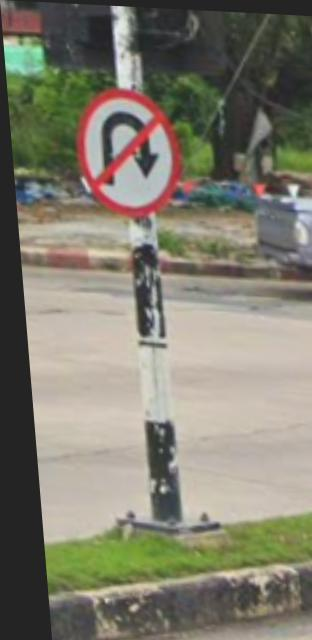not_u_turn_right: (63, 84, 190, 220)
